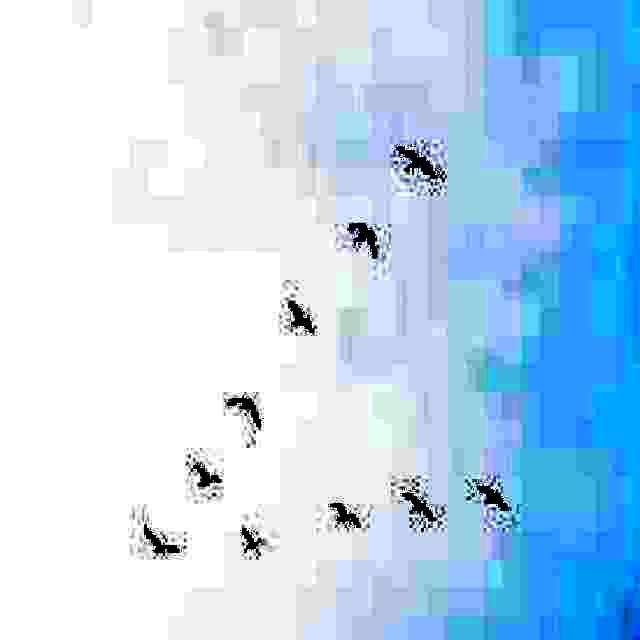bird: (349, 214, 385, 268), (396, 141, 442, 182), (142, 523, 181, 568), (229, 386, 266, 431), (238, 513, 270, 565), (475, 474, 510, 520), (404, 485, 440, 529), (284, 299, 320, 343), (332, 493, 367, 535), (192, 456, 219, 496)
